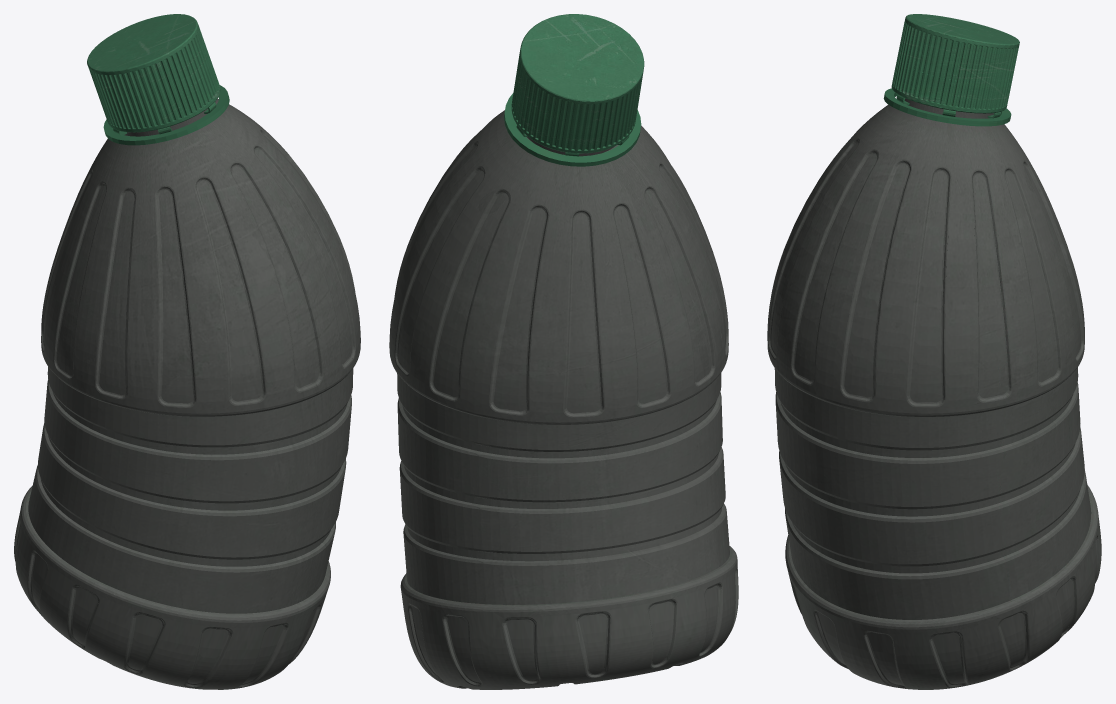
The model's file is bend_medium_1.obj.
The picture shows the model from 3 angles, left to right: view 1: azimuth 30°, elevation 25°; view 2: azimuth 150°, elevation 25°; view 3: azimuth 270°, elevation 25°; orthographic projection. The views are drawn at different scales.
Parts seen in each view (by area): view 1: model; view 2: model; view 3: model.
Boxes of the visible parts, box(x1,y1,x2,y2) form: model: box(14, 14, 360, 689); model: box(389, 14, 738, 689); model: box(767, 14, 1101, 689).
Size of the model in its own units: 0.1311 by 0.2683 by 0.1294.
Materials: 1 (1 with a texture image).
